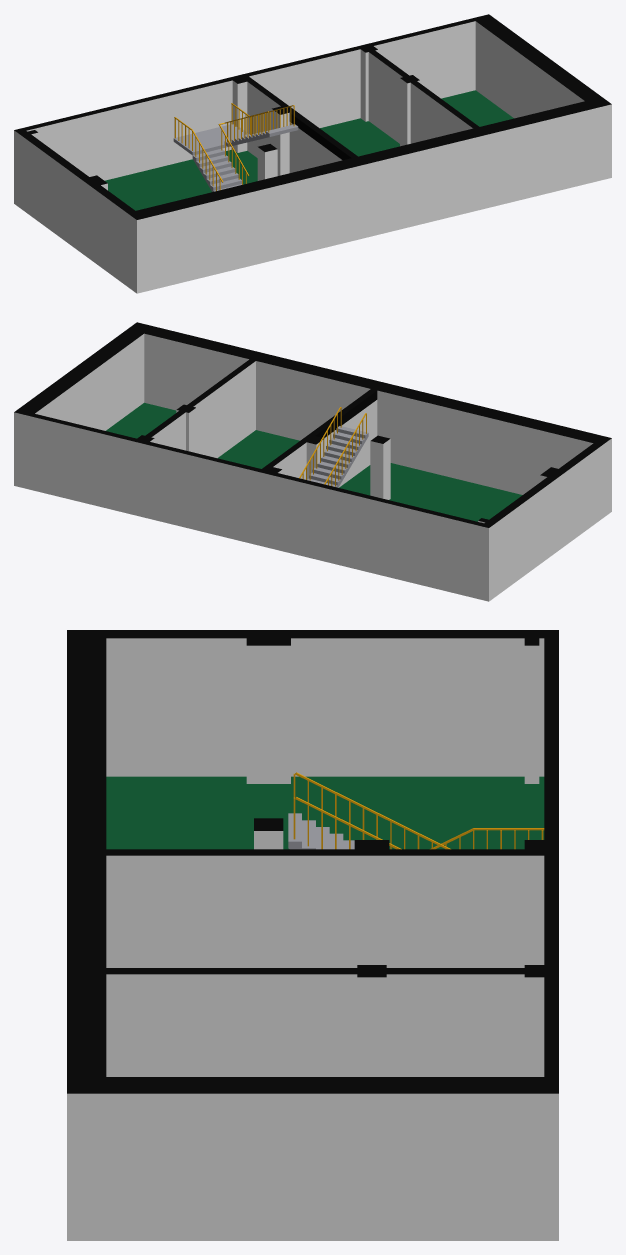
Rendered from soulbrain_T5-1-1B.glb.
3 renders of one model, top to bottom at view 1: azimuth 30°, elevation 25°; view 2: azimuth 150°, elevation 25°; view 3: azimuth 270°, elevation 25°, orthographic. The views are drawn at different scales.
Parts seen in each view (by area): view 1: Box043, Plane001, T5-1-1B; view 2: Box043, Plane001, T5-1-1B; view 3: Box043, Plane001, T5-1-1B.
Boxes of the visible parts, x1,y1,x2,y2 form: Box043: [14, 14, 611, 293]; Plane001: [105, 90, 513, 210]; T5-1-1B: [173, 103, 298, 191]; Box043: [14, 322, 611, 601]; Plane001: [106, 402, 522, 521]; T5-1-1B: [299, 407, 368, 487]; Box043: [67, 630, 558, 1240]; Plane001: [106, 776, 544, 849]; T5-1-1B: [288, 772, 544, 849].
Size of the model in its own units: 22.3 by 4.24 by 10.
